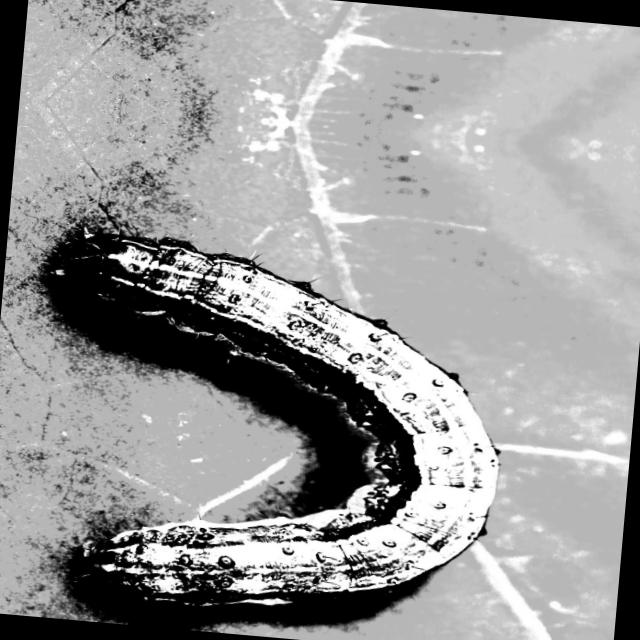Armyworm: (5, 165, 578, 640)
